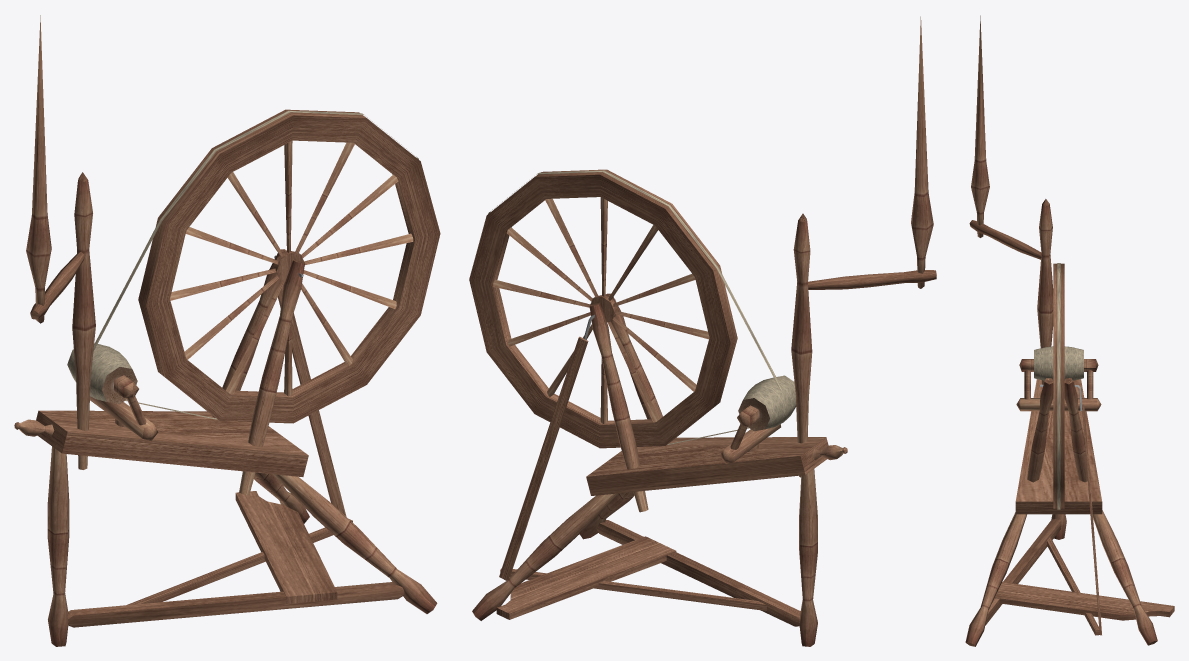
The model's file is shop_tailor_spinningWheel.fbx.
3 views of the same model, side by side, from view 1: azimuth 30°, elevation 25°; view 2: azimuth 150°, elevation 25°; view 3: azimuth 270°, elevation 25° (orthographic). The views are drawn at different scales.
Visible parts, largest first — view 1: wheelFrame, table, distaff, treadle, treadleBar, leg_02, leg_01, wheelSupport_02, footman, maiden, spoke_06, pedalBrace (+11 smaller); view 2: wheelFrame, table, distaff, treadle, leg_03, treadleBar, leg_01, footman, wheelSupport_01, pedalBrace, spoolThread, maiden (+9 smaller); view 3: table, distaff, treadle, wheelFrame, leg_02, leg_03, maiden, wheelSupport_02, spoolThread, treadleBar, wheelSupport_01, driveBand_01 (+2 smaller).
Boxes of the visible parts, bbox=[...] form: wheelFrame: bbox=[138, 109, 440, 423]; table: bbox=[36, 410, 308, 476]; distaff: bbox=[26, 15, 95, 469]; treadle: bbox=[235, 491, 337, 603]; treadleBar: bbox=[67, 582, 404, 627]; leg_02: bbox=[273, 474, 437, 613]; leg_01: bbox=[47, 446, 69, 646]; wheelSupport_02: bbox=[239, 260, 304, 495]; footman: bbox=[278, 282, 346, 516]; maiden: bbox=[90, 375, 158, 441]; spoke_06: bbox=[226, 142, 354, 394]; pedalBrace: bbox=[126, 519, 352, 605]; wheelFrame: bbox=[469, 169, 737, 448]; table: bbox=[586, 437, 828, 495]; distaff: bbox=[791, 16, 936, 477]; treadle: bbox=[496, 536, 676, 619]; leg_03: bbox=[472, 493, 618, 620]; treadleBar: bbox=[596, 520, 800, 626]; leg_01: bbox=[799, 469, 817, 646]; footman: bbox=[499, 336, 588, 580]; wheelSupport_01: bbox=[589, 303, 648, 512]; pedalBrace: bbox=[500, 568, 766, 610]; spoolThread: bbox=[743, 375, 796, 428]; maiden: bbox=[720, 405, 780, 463]; table: bbox=[1015, 379, 1102, 514]; distaff: bbox=[969, 15, 1053, 384]; treadle: bbox=[994, 582, 1174, 620]; wheelFrame: bbox=[1053, 263, 1064, 508]; leg_02: bbox=[965, 512, 1026, 646]; leg_03: bbox=[1093, 510, 1157, 645]; maiden: bbox=[1016, 359, 1101, 411]; wheelSupport_02: bbox=[1027, 378, 1053, 482]; spoolThread: bbox=[1034, 346, 1083, 380]; treadleBar: bbox=[985, 519, 1061, 625]; wheelSupport_01: bbox=[1064, 378, 1090, 482]; driveBand_01: bbox=[1057, 263, 1060, 509].
Size of the model in its own units: 396 by 559 by 213.
1 material, 1 textured.
